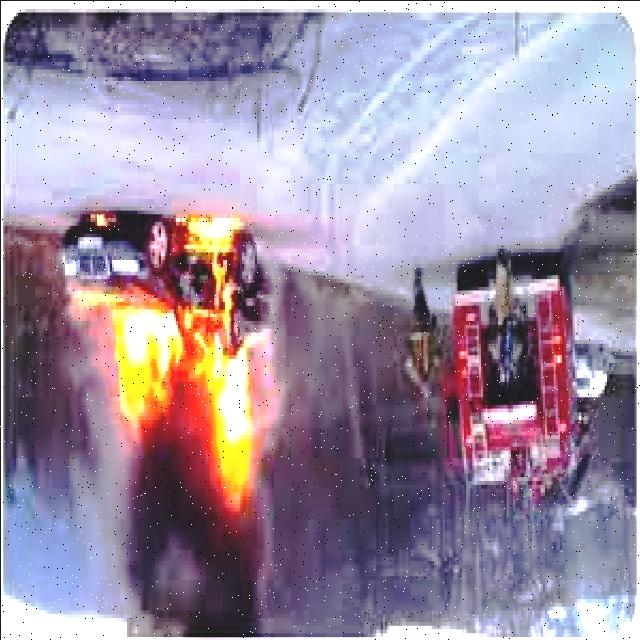api: (118, 214, 270, 519)
